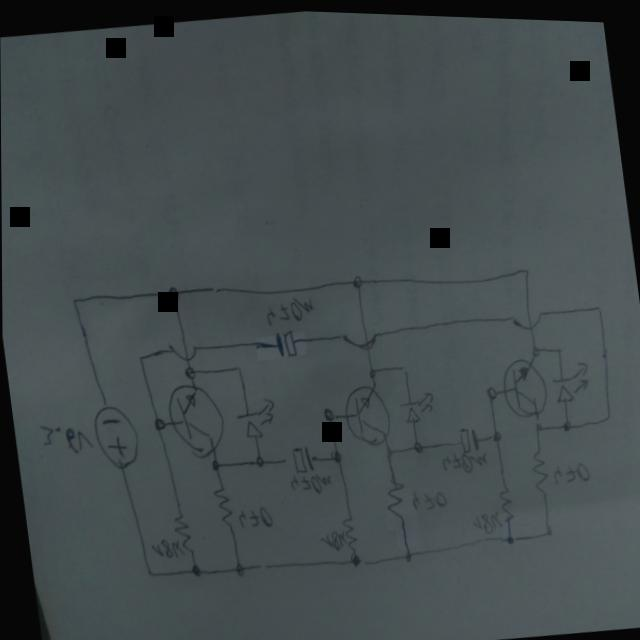capacitor: (289, 442, 314, 473), (273, 326, 297, 357), (457, 421, 479, 452)
crossover: (339, 324, 381, 353), (509, 305, 545, 328), (167, 340, 198, 363)
diode: (232, 394, 279, 440), (548, 355, 592, 400), (397, 385, 436, 423)
junction: (164, 281, 182, 305), (68, 293, 84, 314), (349, 270, 364, 289), (320, 404, 334, 421), (182, 364, 196, 381), (484, 380, 498, 397), (152, 415, 166, 431), (348, 551, 362, 566), (135, 350, 148, 366), (233, 560, 245, 576), (330, 447, 342, 462), (383, 442, 395, 457), (489, 425, 501, 440), (528, 340, 540, 355), (253, 453, 265, 467), (233, 361, 244, 375), (560, 415, 571, 429), (190, 563, 201, 576), (209, 457, 220, 470), (412, 438, 423, 451), (520, 260, 531, 273), (403, 548, 413, 561), (533, 417, 543, 430), (603, 406, 612, 420), (367, 365, 376, 378), (399, 360, 408, 373), (554, 340, 563, 353), (505, 531, 514, 542), (543, 522, 552, 533), (594, 299, 603, 310), (145, 567, 153, 577)
resistor: (382, 473, 407, 520), (526, 442, 549, 493), (170, 510, 194, 555), (211, 482, 235, 525), (339, 511, 358, 552), (496, 481, 514, 520)
source: (89, 399, 144, 472)
text: (37, 418, 94, 459), (263, 290, 315, 327), (439, 443, 490, 474), (288, 468, 332, 496), (551, 455, 590, 483), (234, 502, 274, 529), (469, 503, 504, 533), (409, 484, 447, 510), (150, 535, 184, 560), (318, 525, 347, 551)
transistor: (163, 376, 228, 464), (340, 378, 393, 448), (499, 350, 550, 417)
